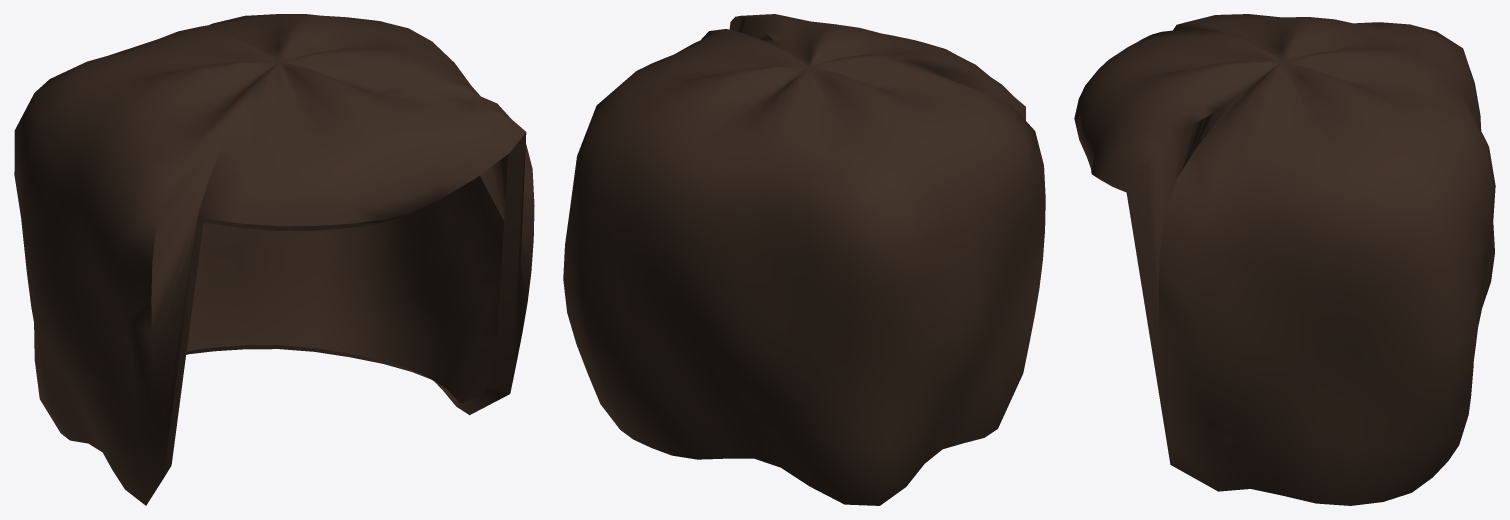
The model's file is Cuerpo_Pelo_Afro.fbx.
3 renders of one model, left to right at view 1: azimuth 30°, elevation 25°; view 2: azimuth 150°, elevation 25°; view 3: azimuth 270°, elevation 25°, orthographic. The views are drawn at different scales.
Visible parts, largest first — view 1: Cuerpo_Pelo_Afro; view 2: Cuerpo_Pelo_Afro; view 3: Cuerpo_Pelo_Afro.
Part boxes in pixels (box(x1,y1,x2,y2)): Cuerpo_Pelo_Afro: box(14, 14, 534, 505); Cuerpo_Pelo_Afro: box(563, 14, 1045, 505); Cuerpo_Pelo_Afro: box(1074, 14, 1495, 505).
Size of the model in its own units: 1.68 by 1.54 by 1.55.
